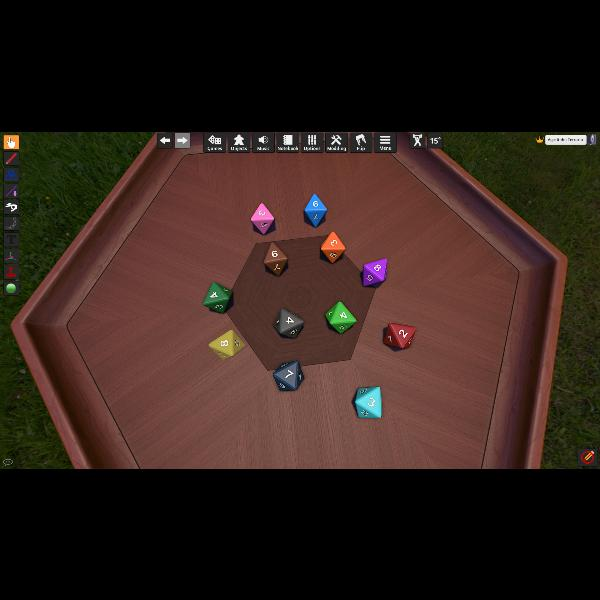d8: (272, 360, 304, 390), (325, 301, 355, 333), (209, 330, 243, 358), (274, 307, 304, 337), (204, 282, 234, 312), (356, 386, 382, 418), (264, 241, 288, 275), (304, 192, 327, 226), (386, 322, 416, 348), (250, 202, 274, 234), (321, 231, 345, 263), (363, 258, 387, 286)
